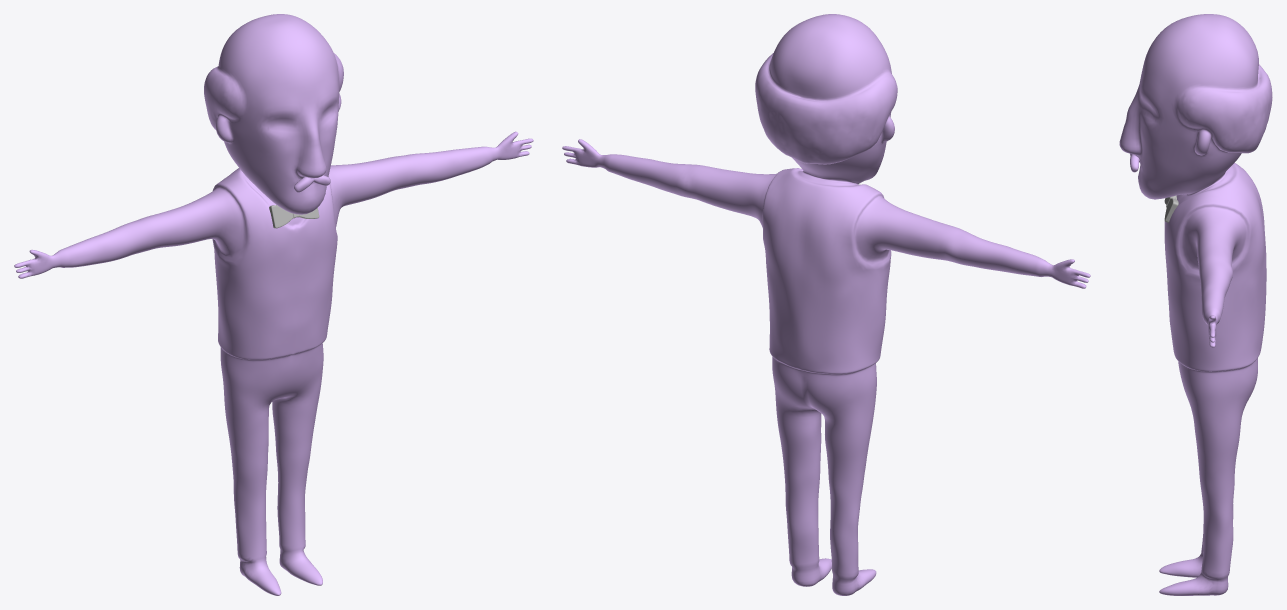
The model's file is Asset_Hero_LP_UVS.fbx.
The picture shows the model from 3 angles, left to right: view 1: azimuth 30°, elevation 25°; view 2: azimuth 150°, elevation 25°; view 3: azimuth 270°, elevation 25°; orthographic projection.
Parts seen in each view (by area): view 1: Asset_Hero_LP; view 2: Asset_Hero_LP; view 3: Asset_Hero_LP, Lazo_Hero_LP.
Part boxes in pixels (box(x1,y1,x2,y2)): Asset_Hero_LP: box(14, 14, 533, 595); Asset_Hero_LP: box(562, 14, 1090, 595); Asset_Hero_LP: box(1119, 14, 1272, 595); Lazo_Hero_LP: box(1164, 195, 1178, 222).
Bounding box in the file's own units: 9.44 × 9.65 × 2.37.
